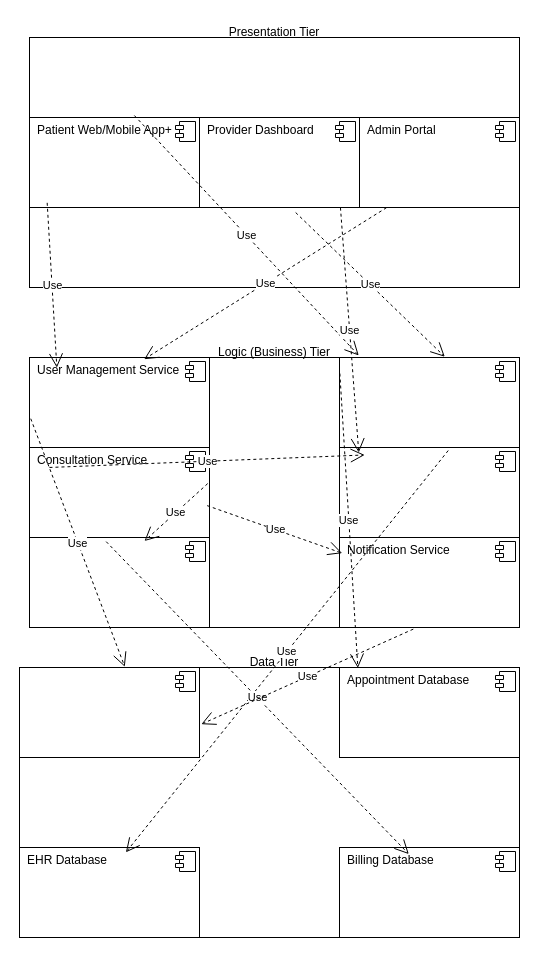
This 537x955 diagram has some shape labels left out. Here are the shapes that lost their labels. From the top down, the centre of each, then its label:
At (x=429, y=402): "Scheduling Service".
At (x=429, y=492): "EHR Service".
At (x=119, y=582): "Billing Service".
At (x=109, y=712): "User Database".
